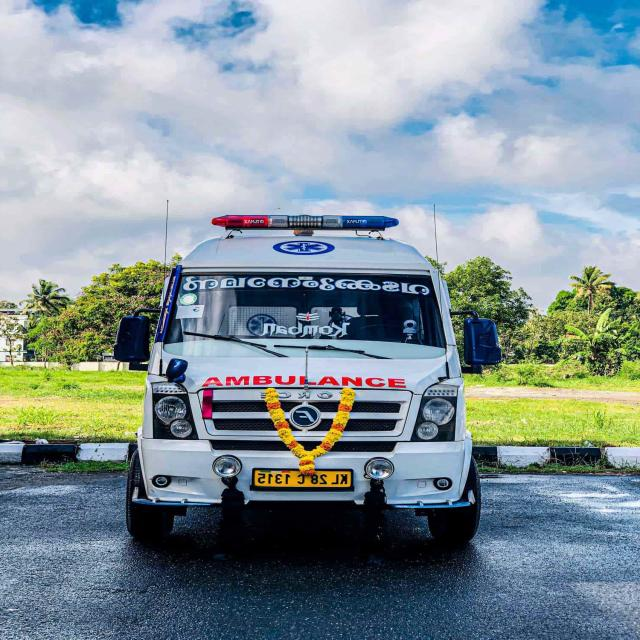emergency: (115, 215, 500, 545)
